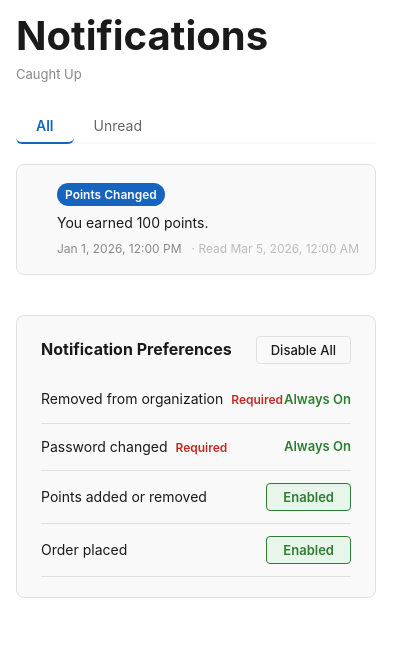
it: notification page different portion tests › shows "No unread notifications" message on unread tab when all are read
The width and height of the screenshot is (393, 646).
Expected: the text "You earned 100 points." is shown, [57, 214, 208, 231]
What coordinates should you click on to do the following:
click the button "unread"
I would click on:
 (118, 126)
Its box is [74, 109, 162, 144].
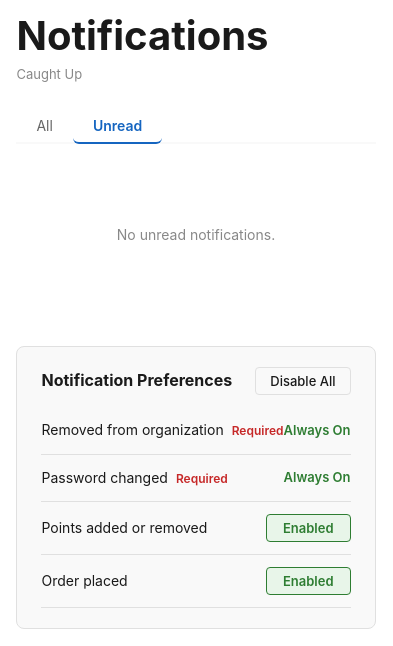
Result: the text "No unread notifications." is shown at [117, 226, 275, 243]
